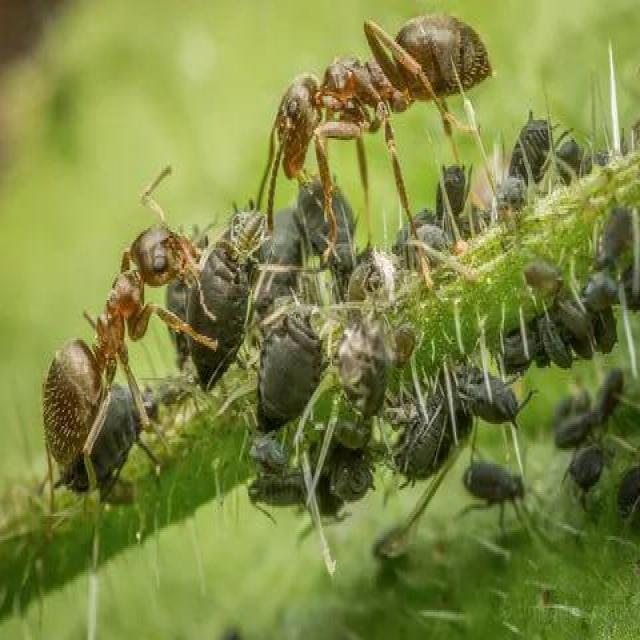aphid: (32, 13, 640, 542), (268, 13, 502, 175)
